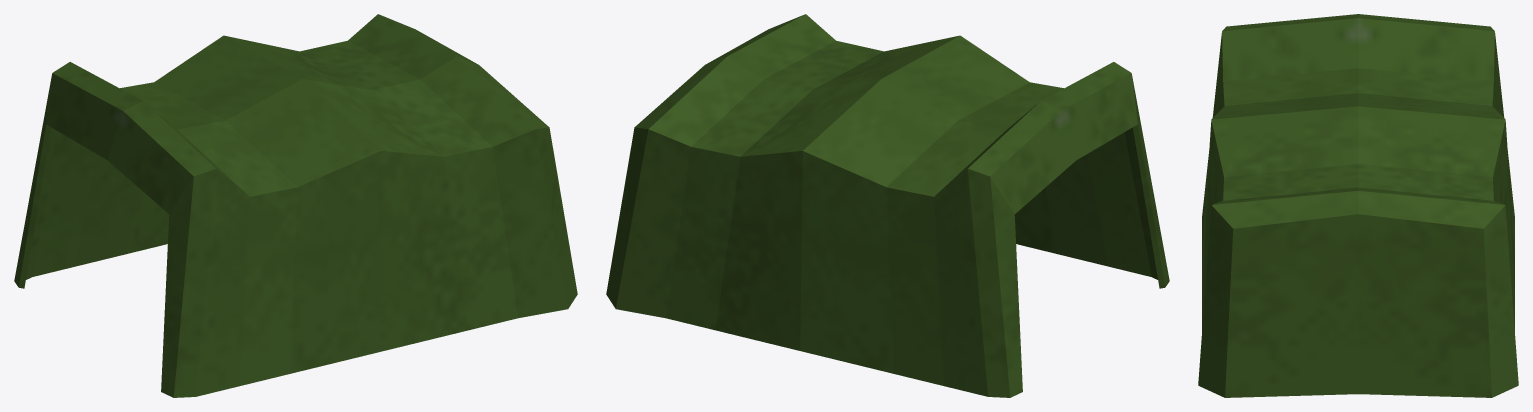
File: TruckBackCover.fbx
The picture shows the model from 3 angles, left to right: view 1: azimuth 30°, elevation 25°; view 2: azimuth 150°, elevation 25°; view 3: azimuth 270°, elevation 25°; orthographic projection. The views are drawn at different scales.
Parts seen in each view (by area): view 1: Plane; view 2: Plane; view 3: Plane.
Boxes of the visible parts, <box> form: Plane: <box>14,14,577,397</box>; Plane: <box>606,14,1169,397</box>; Plane: <box>1198,14,1518,397</box>.
Size of the model in its own units: 179 by 94.64 by 128.
